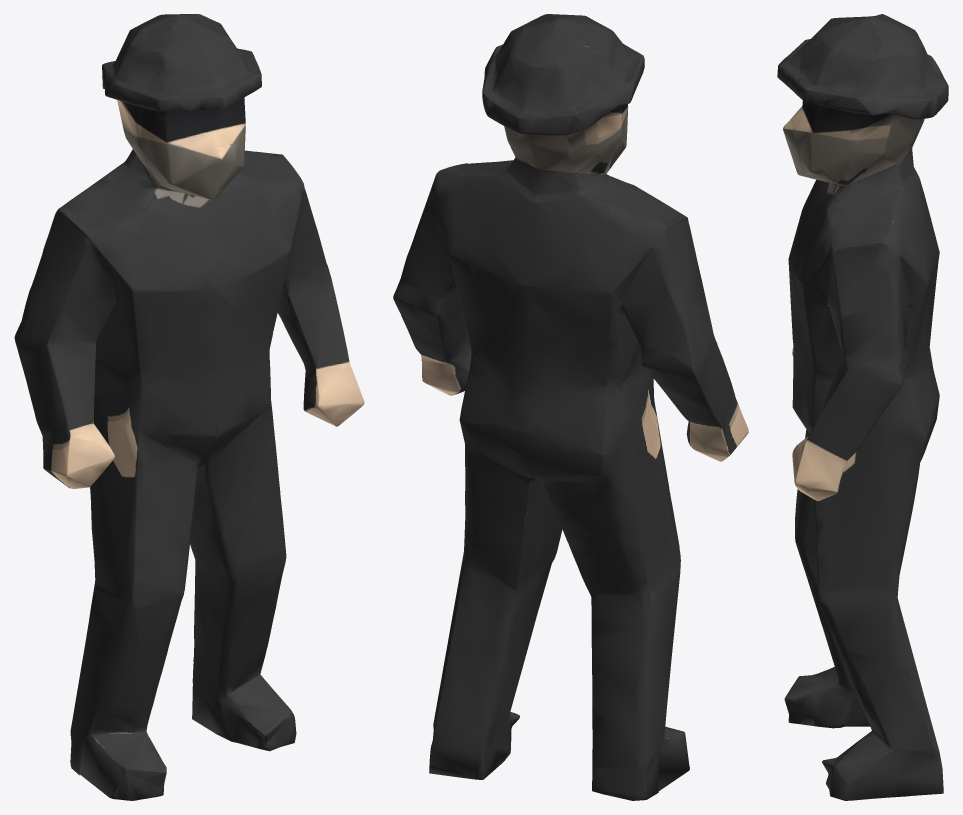
Rendered from robber-figurine.glb.
3 views of the same model, side by side, from view 1: azimuth 30°, elevation 25°; view 2: azimuth 150°, elevation 25°; view 3: azimuth 270°, elevation 25° (orthographic). The views are drawn at different scales.
Parts seen in each view (by area): view 1: Mesh1.0; view 2: Mesh1.0; view 3: Mesh1.0.
Boxes of the visible parts, box(x1,y1,x2,y2) form: Mesh1.0: box(14, 14, 364, 800); Mesh1.0: box(393, 14, 748, 800); Mesh1.0: box(777, 14, 948, 800).
Bounding box in the file's own units: 0.818 × 1.9 × 0.4032.
Materials: 1 (1 with a texture image).
